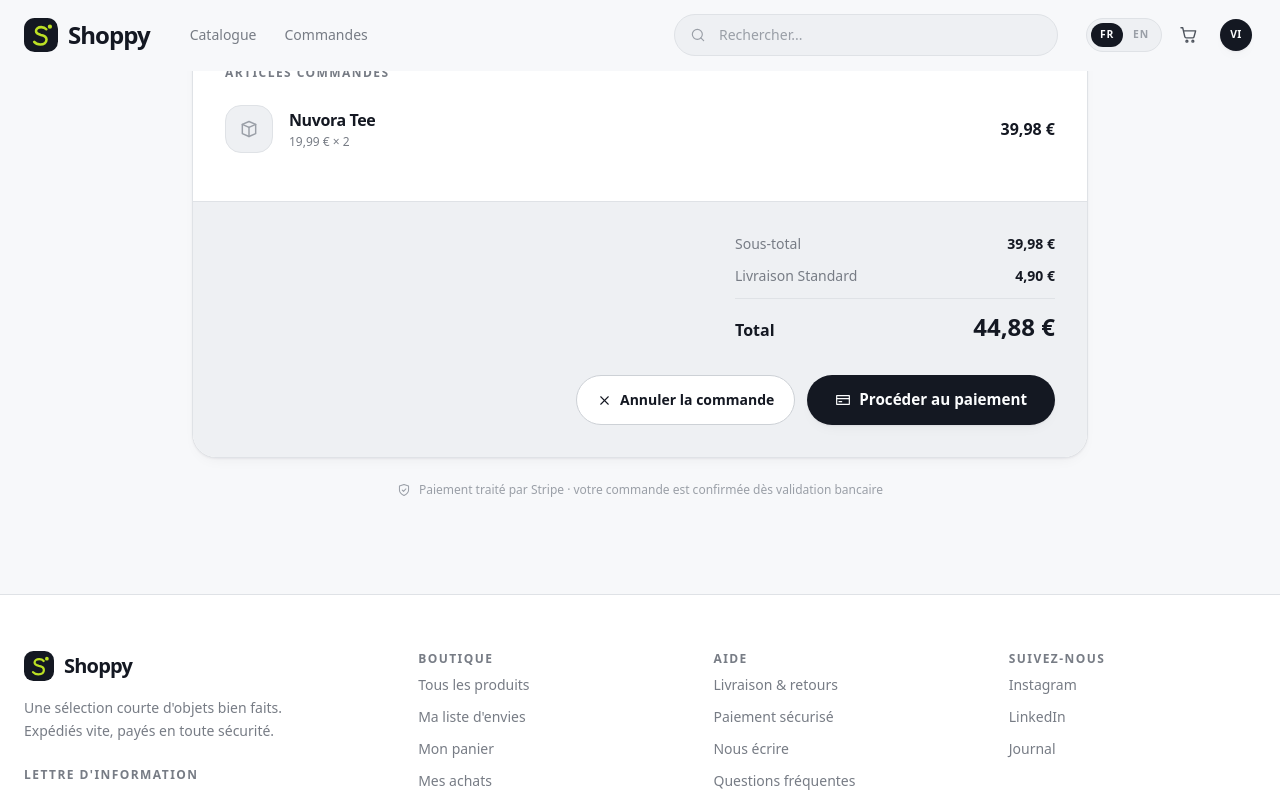
Scenario: OrderDetailPage › cancels a pending order
(page scrolled)
What coordinates should you click on to do the following:
click the button "Annuler la commande"
I would click on:
 (686, 400)
Its box is [576,375,795,425].
(page scrolled)
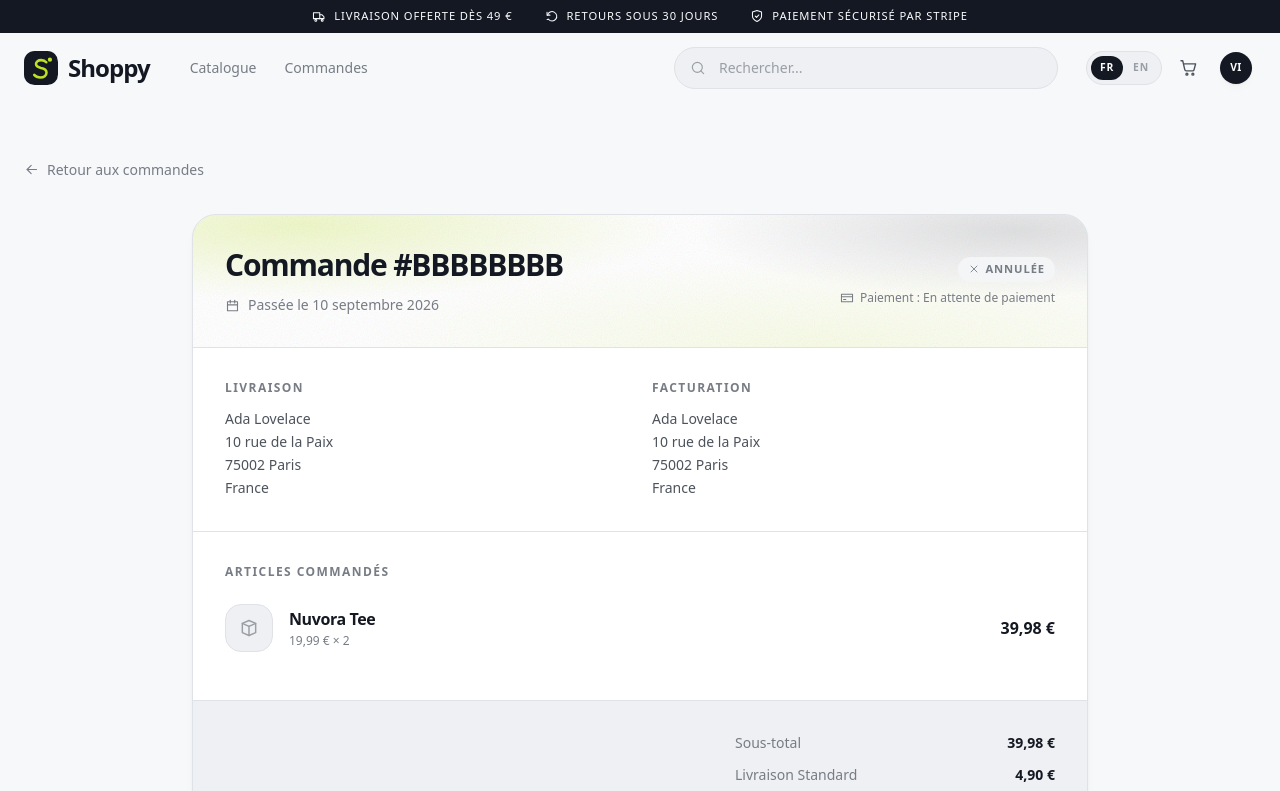
Expected: the text "Annulée" is shown, [958,257,1055,282]
Expected: the button "Procéder au paiement" is gone
